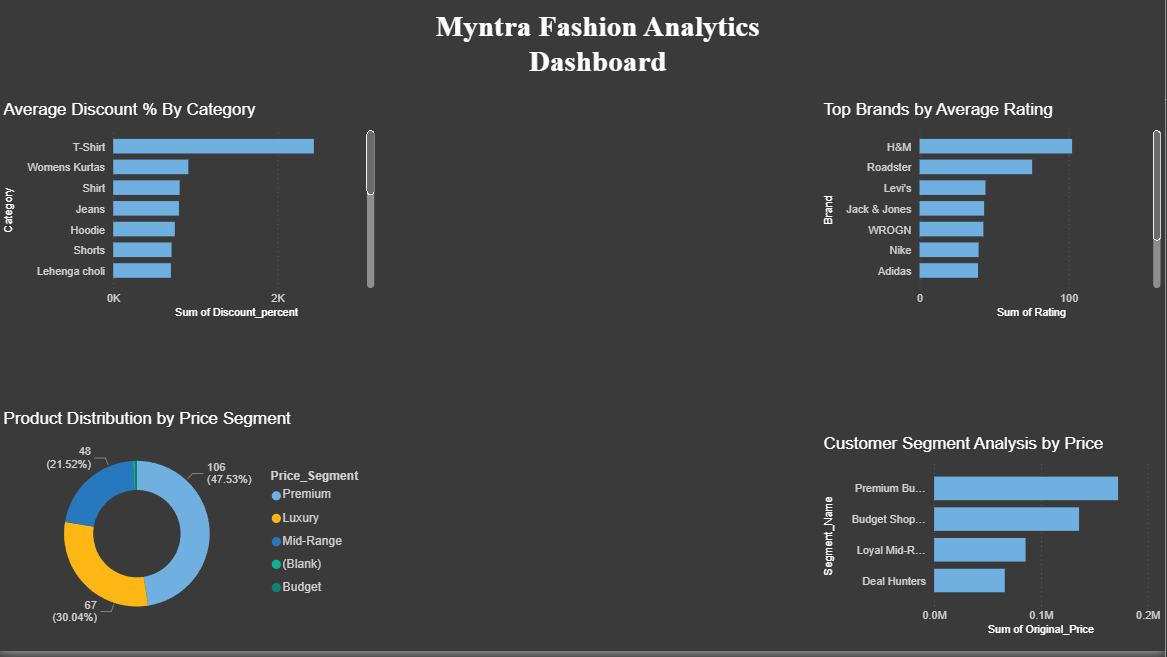

This screenshot's page, from the dashboard's own definition file:
{"tool":"powerbi","page":{"name":"Page 1","canvas":[1280,720],"ordinal":0},"visuals":[{"type":"clusteredBarChart","title":"Average Discount % By Category","fields":{"Category":["Sheet1.Category"],"Y":["Sum(Sheet1.Discount_percent)"]},"box":[0,115.3,417.2,244.3],"z":0},{"type":"clusteredBarChart","title":"Top Brands by Average Rating","fields":{"Category":["Sheet1.Brand"],"Y":["Sum(Sheet1.Rating)"]},"box":[900.2,115.3,380.1,244.3],"z":1},{"type":"donutChart","title":"Product Distribution by Price Segment","fields":{"Category":["Sheet1.Price_Segment"],"Y":["CountNonNull(Sheet1.Product_Name)"]},"box":[0,454.2,417.2,253.9],"z":2},{"type":"clusteredBarChart","title":"Customer Segment Analysis by Price","fields":{"Category":["Sheet1.Segment_Name"],"Y":["Sum(Sheet1.Original_Price)"]},"box":[900.2,481.6,380.1,226.4],"z":3},{"type":"textbox","box":[463.8,11,387,138.6],"z":4}]}

Visuals, with their boxes in screenshot pixels (x1, y1, x2, y2), scaled from the page's 1280x720 canvas onto the 1167x657 screenshot:
"Average Discount % By Category" clusteredBarChart: locate(0, 105, 380, 328)
"Top Brands by Average Rating" clusteredBarChart: locate(821, 105, 1166, 328)
"Product Distribution by Price Segment" donutChart: locate(0, 414, 380, 646)
"Customer Segment Analysis by Price" clusteredBarChart: locate(821, 439, 1166, 646)
textbox: locate(423, 10, 776, 137)
